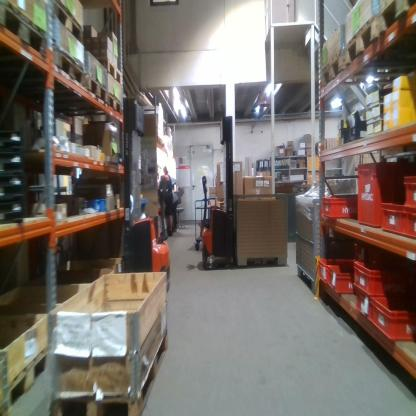pallet: (53, 324, 171, 414), (0, 341, 53, 416), (1, 1, 51, 65), (341, 14, 379, 71), (50, 41, 83, 91), (45, 3, 86, 42), (376, 1, 416, 39), (89, 52, 123, 88), (319, 49, 343, 95), (84, 77, 106, 109), (106, 94, 123, 119)
pallet_truck: (113, 94, 174, 300), (200, 106, 248, 271)
small_load_carrier: (359, 161, 416, 227), (370, 296, 415, 342), (354, 262, 415, 294), (320, 260, 356, 284), (324, 196, 357, 221), (381, 203, 404, 237), (329, 270, 354, 295), (354, 285, 371, 318), (405, 208, 416, 238), (405, 177, 415, 207)
stillage: (234, 191, 288, 270), (293, 193, 320, 297)
